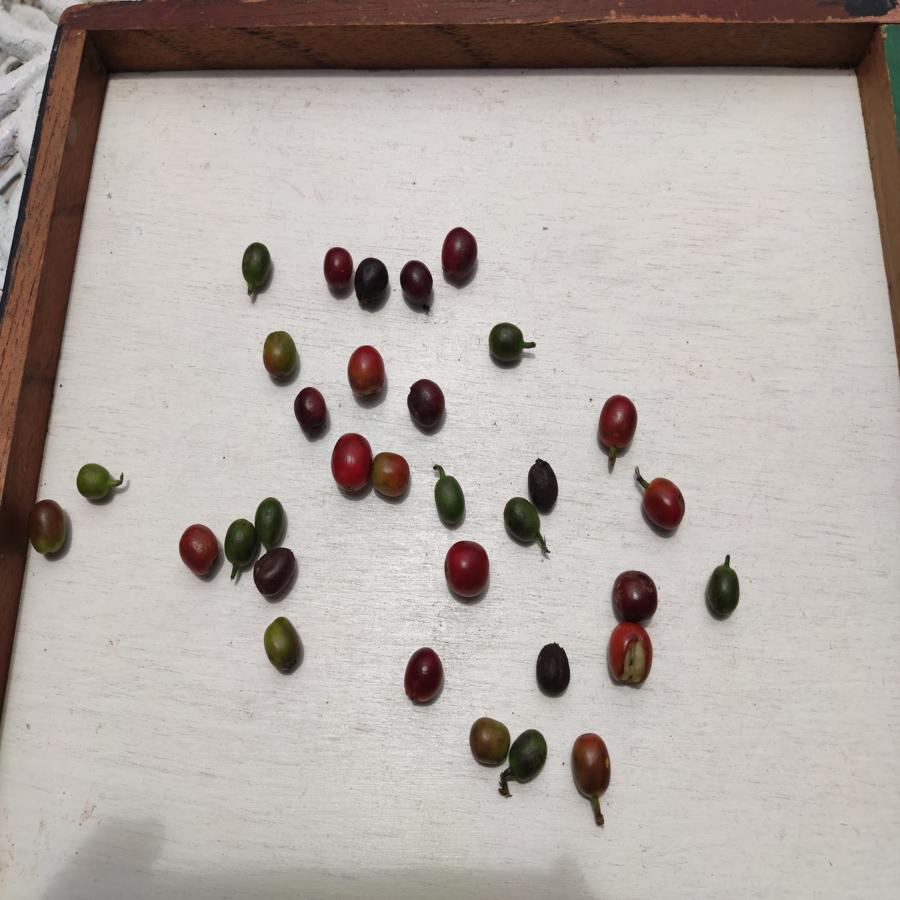Inmaduro: (706, 564, 746, 617), (510, 729, 550, 778), (487, 320, 527, 364), (434, 477, 471, 524), (506, 498, 541, 547), (253, 497, 288, 543), (226, 517, 255, 571), (241, 241, 271, 291)
Maduro: (444, 541, 499, 599), (608, 623, 654, 681), (330, 431, 371, 494), (345, 344, 390, 399), (641, 475, 686, 530), (597, 394, 638, 453), (178, 524, 221, 576)
Pinton: (262, 617, 306, 671), (371, 452, 418, 501), (469, 715, 509, 766), (264, 330, 299, 377)
Sobremaduro: (611, 571, 662, 622), (249, 549, 299, 599), (404, 379, 452, 431), (532, 641, 574, 698), (440, 223, 480, 282), (404, 647, 444, 704), (524, 459, 563, 513), (291, 385, 329, 434), (397, 257, 435, 302), (321, 244, 355, 294), (356, 257, 390, 303)
